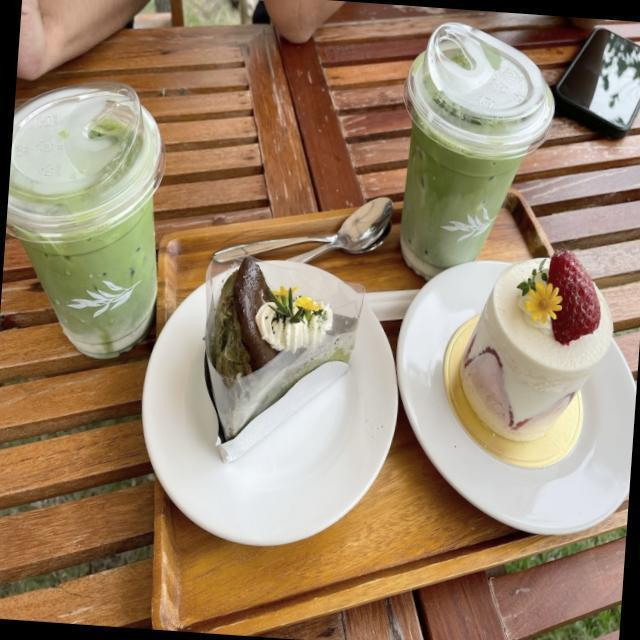cup: (0, 94, 193, 376), (387, 27, 566, 298)
